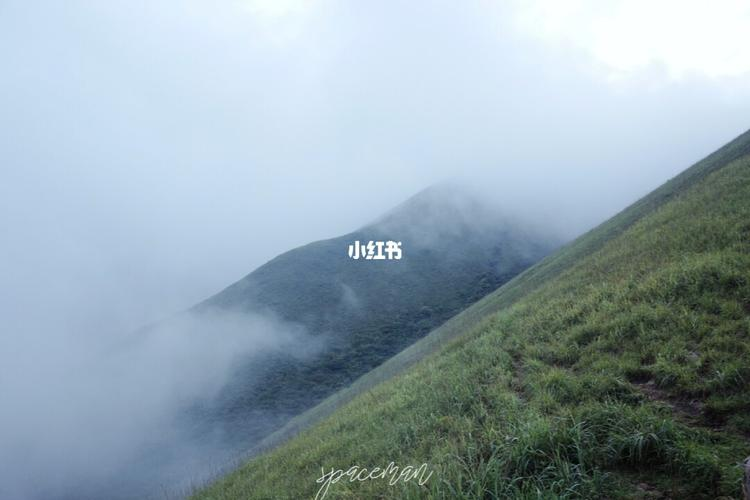mountain: (69, 189, 602, 431)
